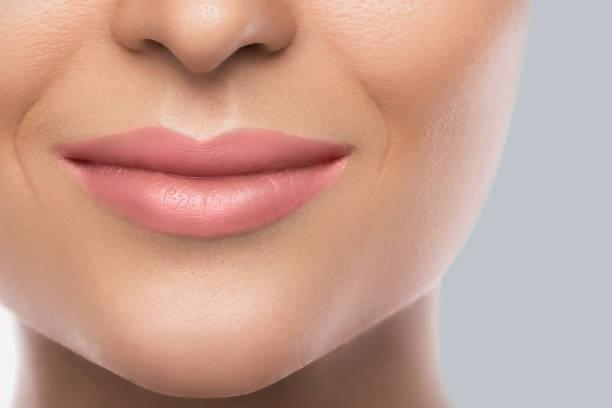Dry-Skin: (349, 13, 505, 263), (43, 242, 319, 381)
